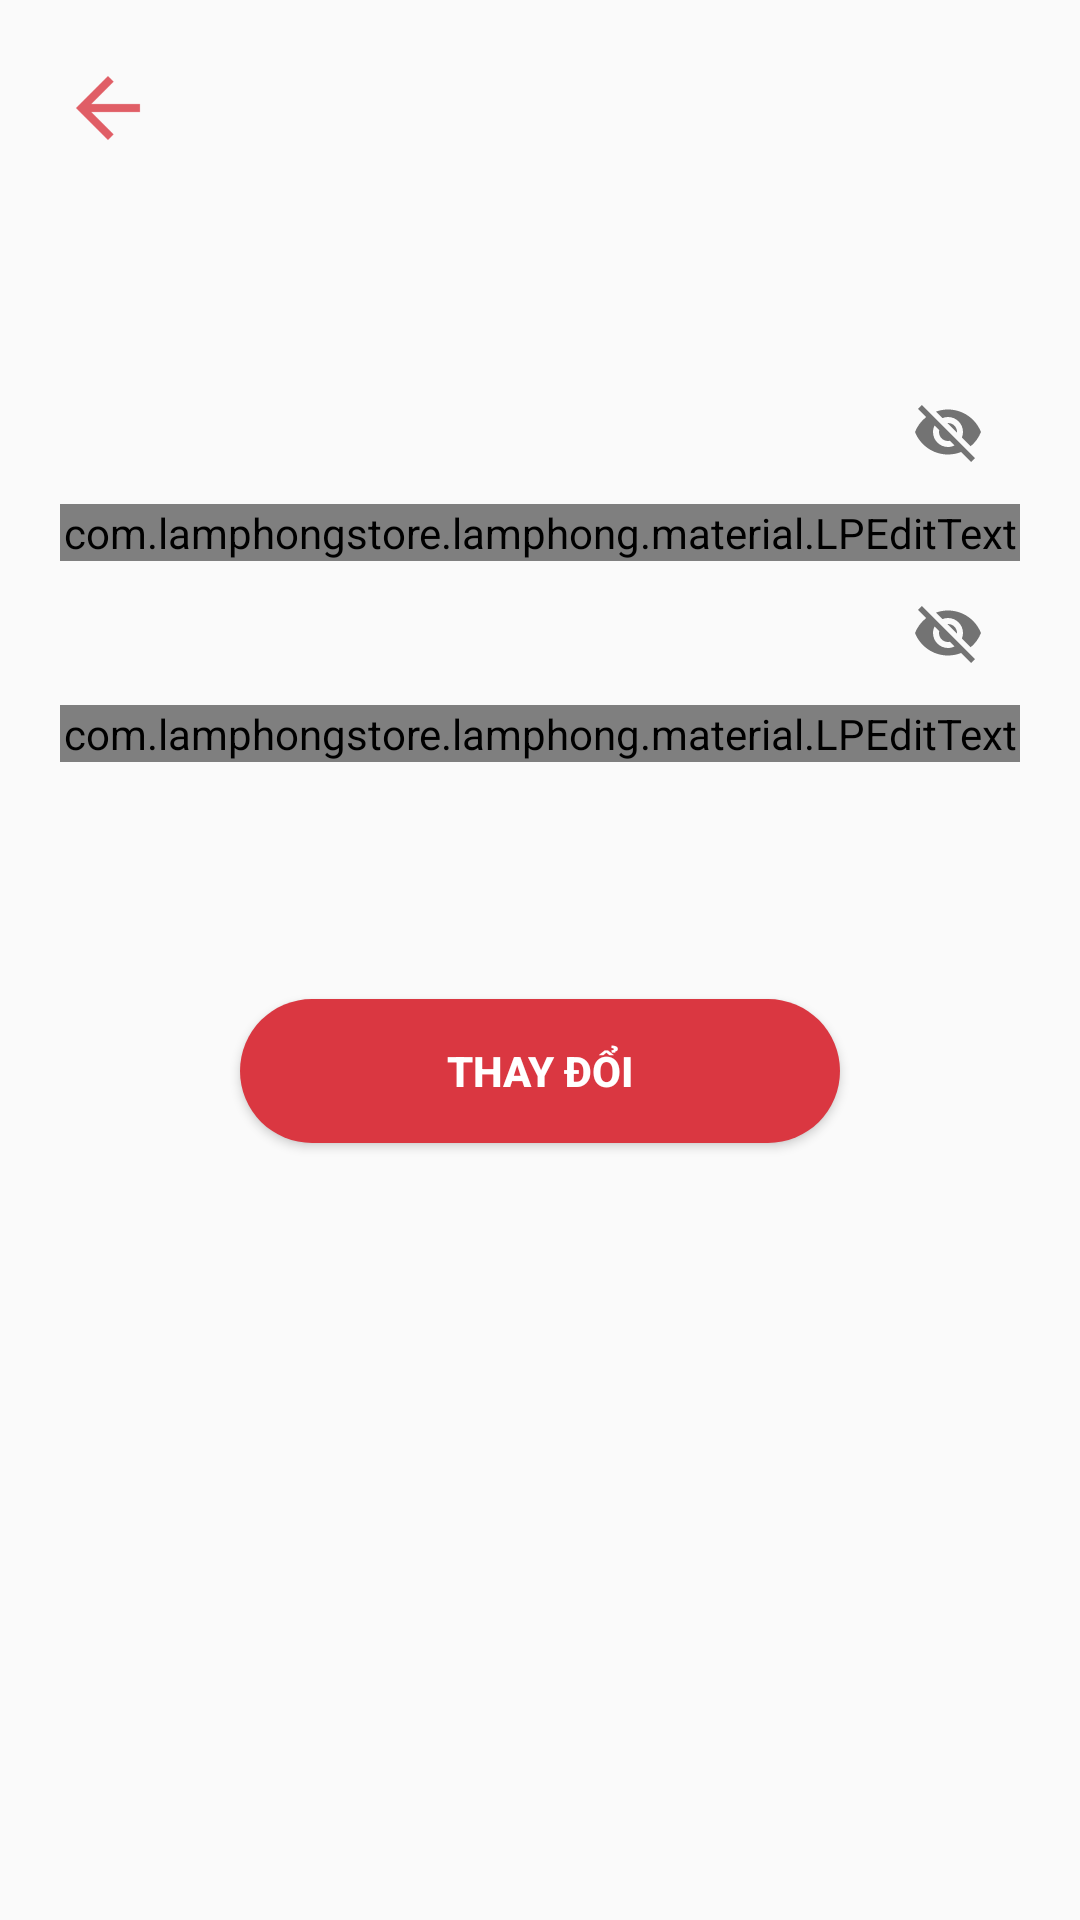

Where to tap for icons on this 1080px×1920px app screen, as (x,y):
back: (108,108)
